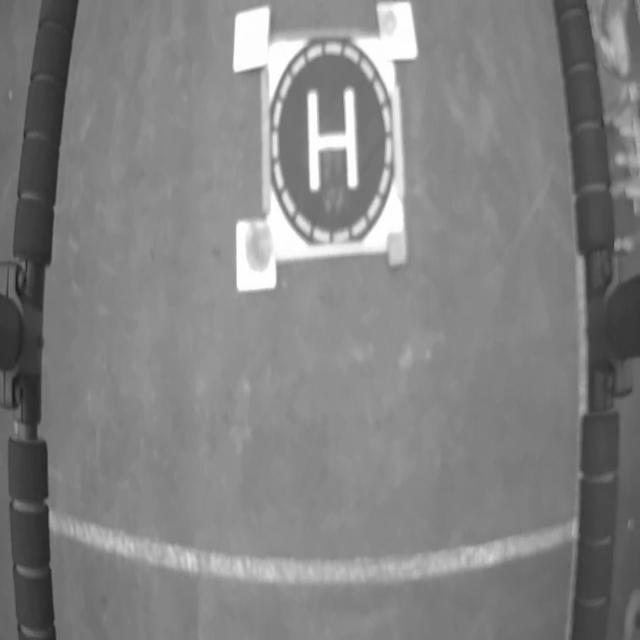Helipad: (306, 87, 359, 191)
